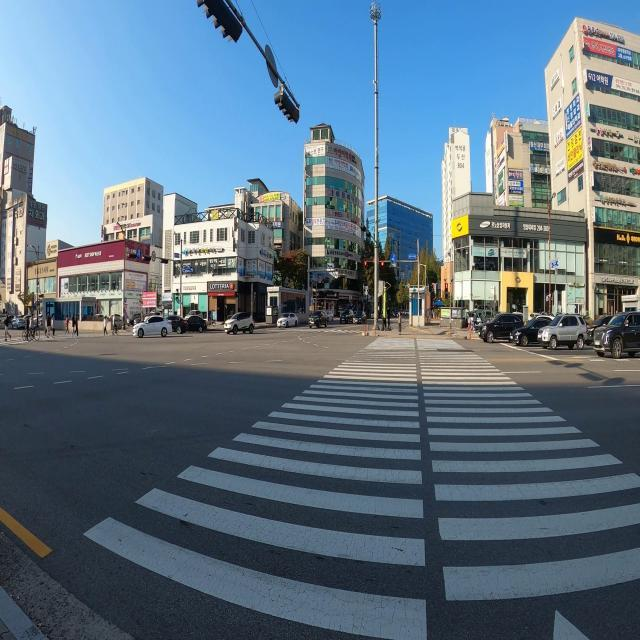crosswalk: (62, 334, 639, 640), (0, 333, 110, 347), (260, 327, 364, 334), (377, 318, 409, 322)
